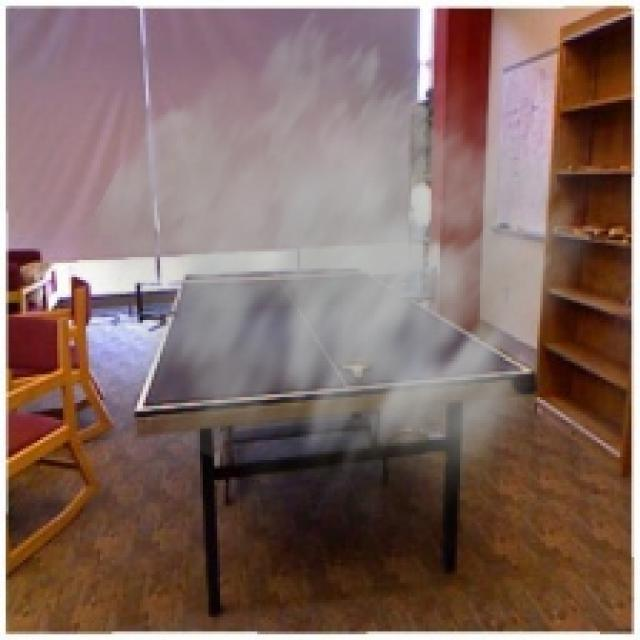Smoke: (60, 6, 620, 568)
